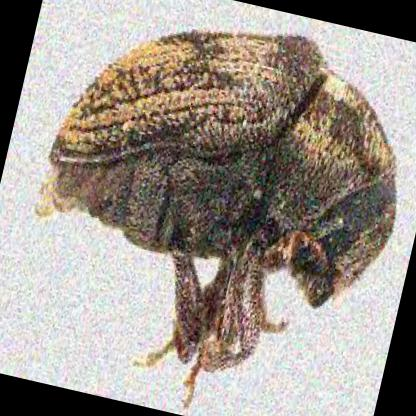ash weevil: (35, 35, 397, 372)
